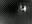person: (19, 4, 24, 15), (23, 5, 28, 16)
